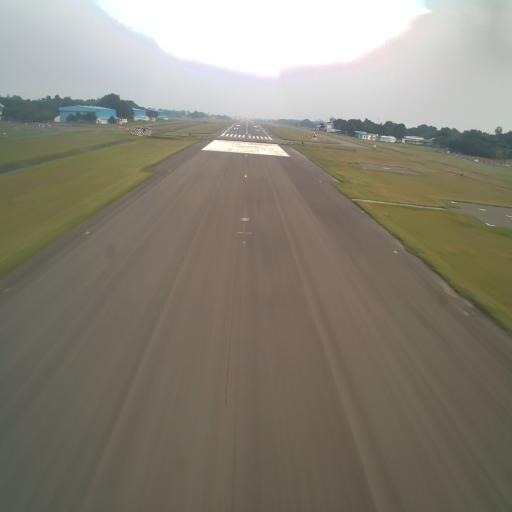off: (84, 228, 91, 239), (392, 247, 398, 256)
